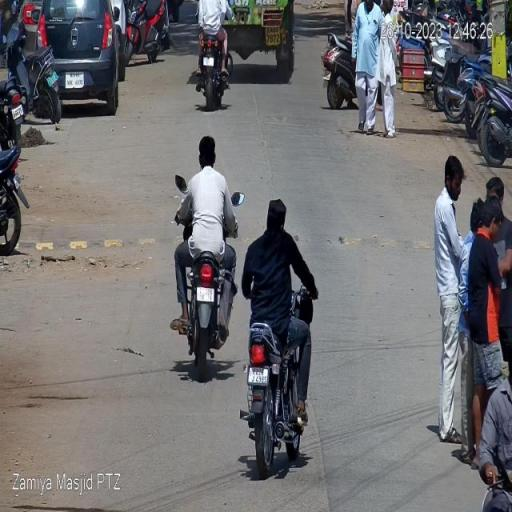using mobile: (281, 227, 288, 234)
